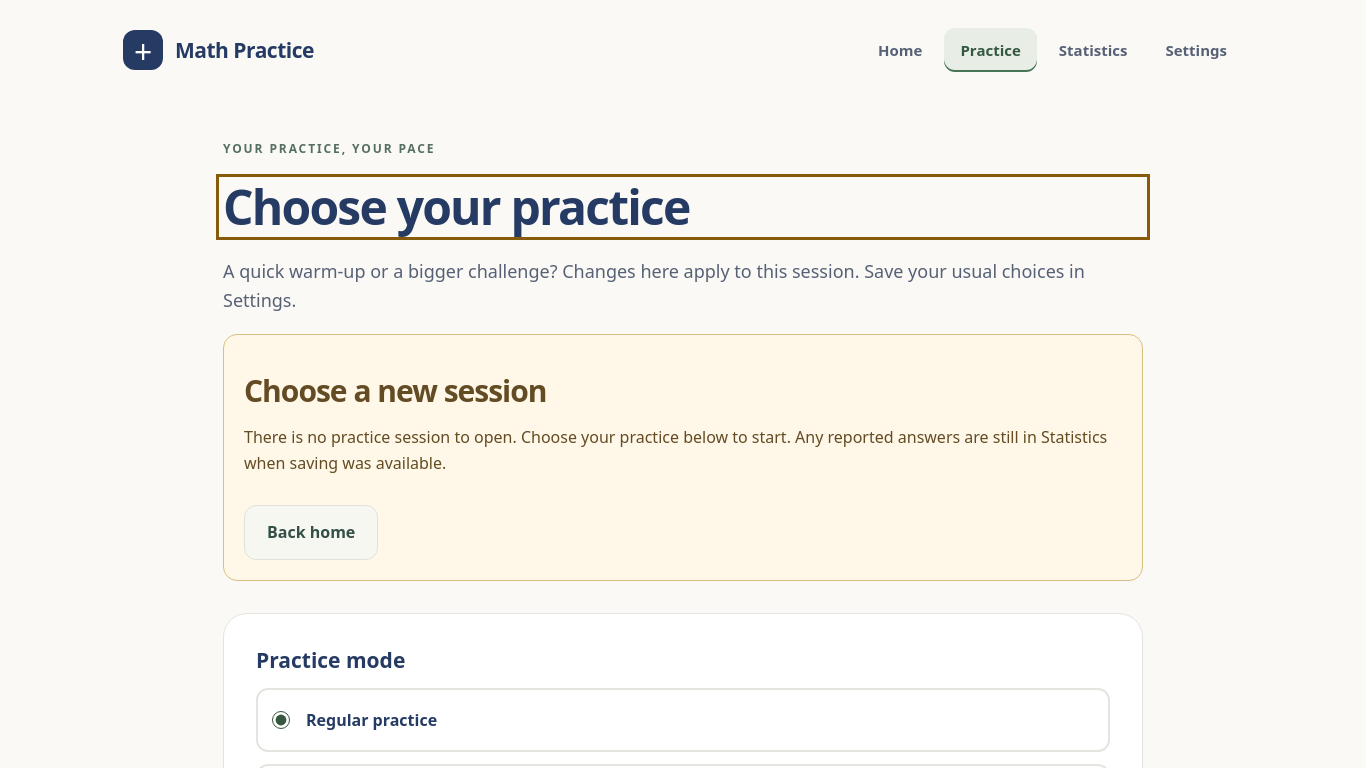
Test: explains a missing session and offers setup and a safe home link
Expected: the heading "Choose your practice" is shown, [223,174,690,239]
Expected: the message shows "There is no practice session to open", [244,426,1107,474]
Click the link "Back home" at (311, 532), box [244,505,378,560]
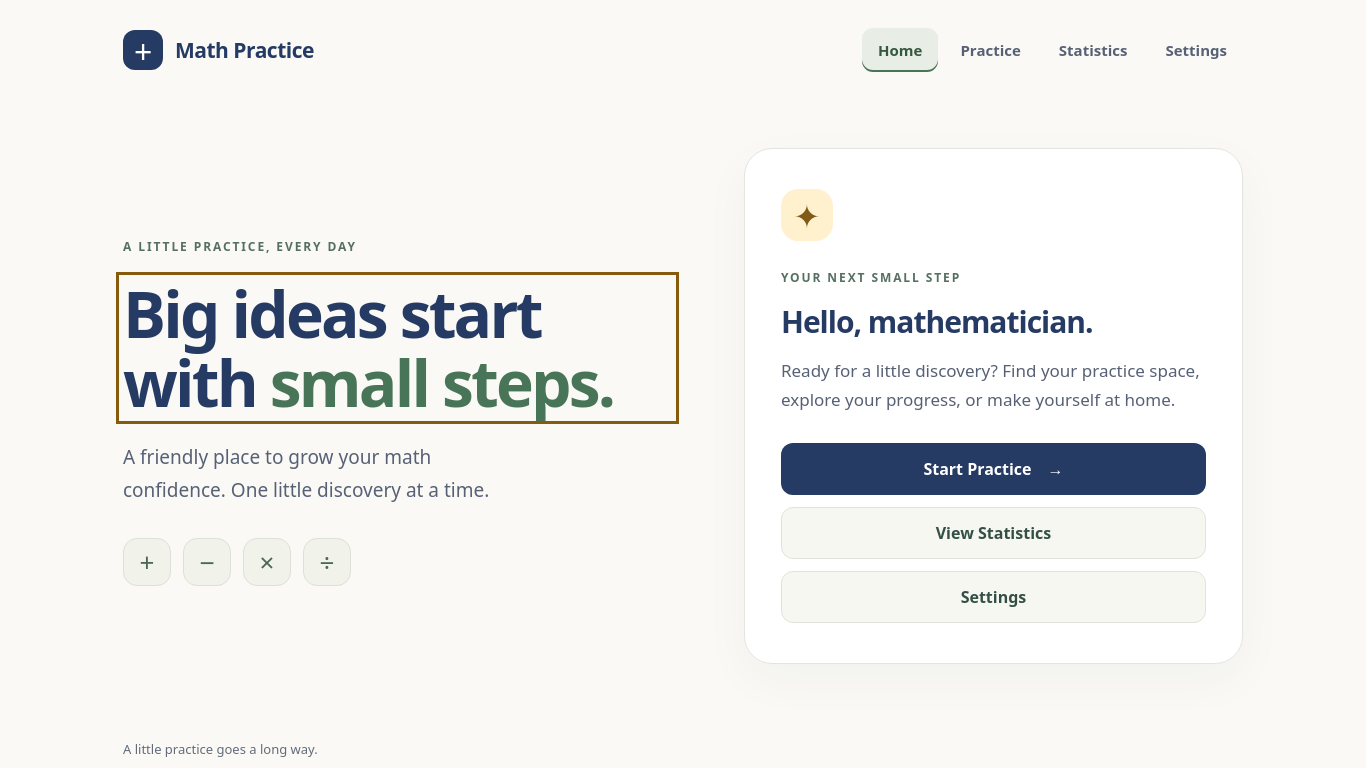
Result: the heading "Big ideas start with small steps." is shown at [123,279,672,417]
